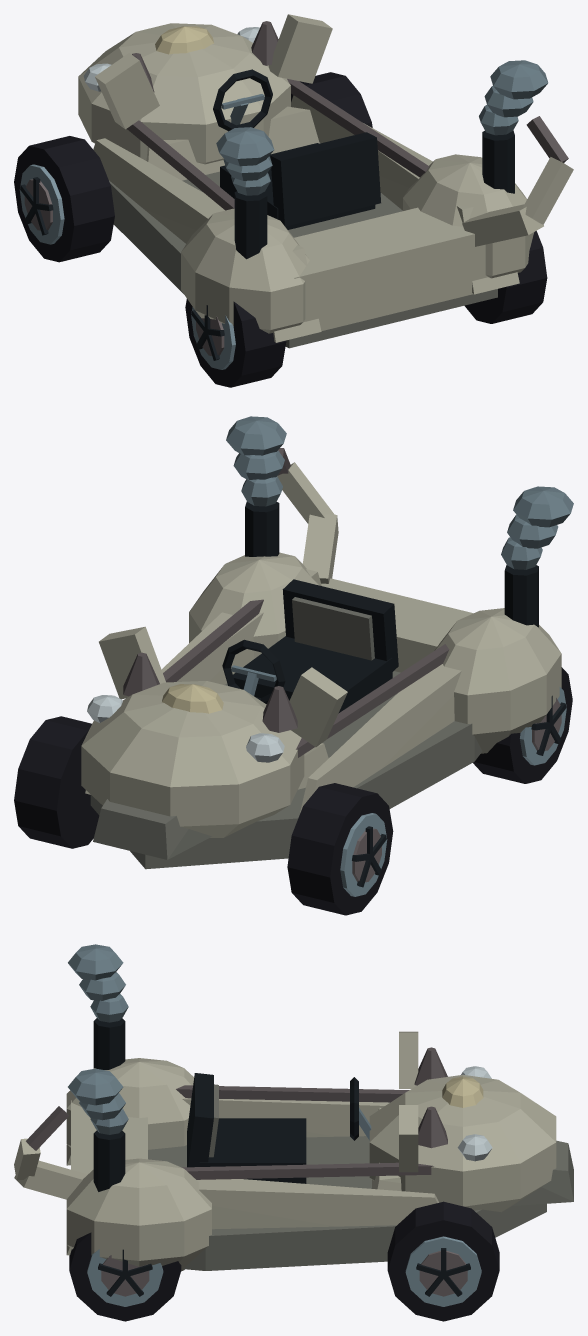
Rendered from kart.glb.
3 renders of one model, top to bottom at view 1: azimuth 30°, elevation 25°; view 2: azimuth 150°, elevation 25°; view 3: azimuth 270°, elevation 25°, orthographic. The views are drawn at different scales.
Visible parts, largest first — view 1: identity-beast-beast-sculpted-prow-and-haunches, identity-beast-driver-cockpit, wheel-front-left, identity-beast-motif-smoke, wheel-rear-left, identity-beast-motif-tail, wheel-rear-right, wheel-front-right, identity-beast-motif-skull; view 2: identity-beast-beast-sculpted-prow-and-haunches, identity-beast-driver-cockpit, identity-beast-motif-smoke, wheel-front-left, wheel-front-right, wheel-rear-left, identity-beast-motif-tail, identity-beast-motif-skull; view 3: identity-beast-beast-sculpted-prow-and-haunches, wheel-front-right, identity-beast-motif-smoke, identity-beast-driver-cockpit, wheel-rear-right, identity-beast-motif-tail, identity-beast-motif-skull.
Part boxes in pixels (x1,y1,x2,y2): identity-beast-beast-sculpted-prow-and-haunches: [78, 14, 534, 348]; identity-beast-driver-cockpit: [213, 69, 380, 229]; wheel-front-left: [14, 136, 114, 262]; identity-beast-motif-smoke: [216, 60, 548, 259]; wheel-rear-left: [185, 299, 286, 387]; identity-beast-motif-tail: [462, 116, 573, 246]; wheel-rear-right: [464, 231, 547, 323]; wheel-front-right: [291, 72, 372, 127]; identity-beast-motif-skull: [155, 26, 213, 54]; identity-beast-beast-sculpted-prow-and-haunches: [81, 552, 561, 869]; identity-beast-driver-cockpit: [222, 579, 398, 713]; identity-beast-motif-smoke: [226, 416, 573, 627]; wheel-front-left: [287, 783, 393, 915]; wheel-front-right: [14, 716, 99, 848]; wheel-rear-left: [473, 667, 572, 783]; identity-beast-motif-tail: [277, 448, 338, 583]; identity-beast-motif-skull: [162, 684, 223, 713]; identity-beast-beast-sculpted-prow-and-haunches: [66, 1031, 573, 1271]; wheel-front-right: [387, 1201, 499, 1321]; identity-beast-motif-smoke: [68, 944, 128, 1191]; identity-beast-driver-cockpit: [187, 1073, 371, 1183]; wheel-rear-right: [69, 1232, 181, 1321]; identity-beast-motif-tail: [14, 1106, 86, 1199]; identity-beast-motif-skull: [442, 1076, 483, 1107].
Bounding box in the file's own units: 2.01 × 1.53 × 3.2.
